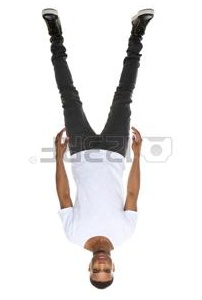arm: (123, 161, 141, 242), (56, 160, 73, 242)
chest: (73, 149, 122, 239)
face: (87, 256, 119, 289)
foot: (41, 7, 63, 35), (131, 8, 154, 32)
hand: (132, 126, 143, 160), (56, 128, 68, 159)
leg: (50, 36, 99, 136), (100, 36, 139, 139)
neck: (85, 239, 116, 255)
